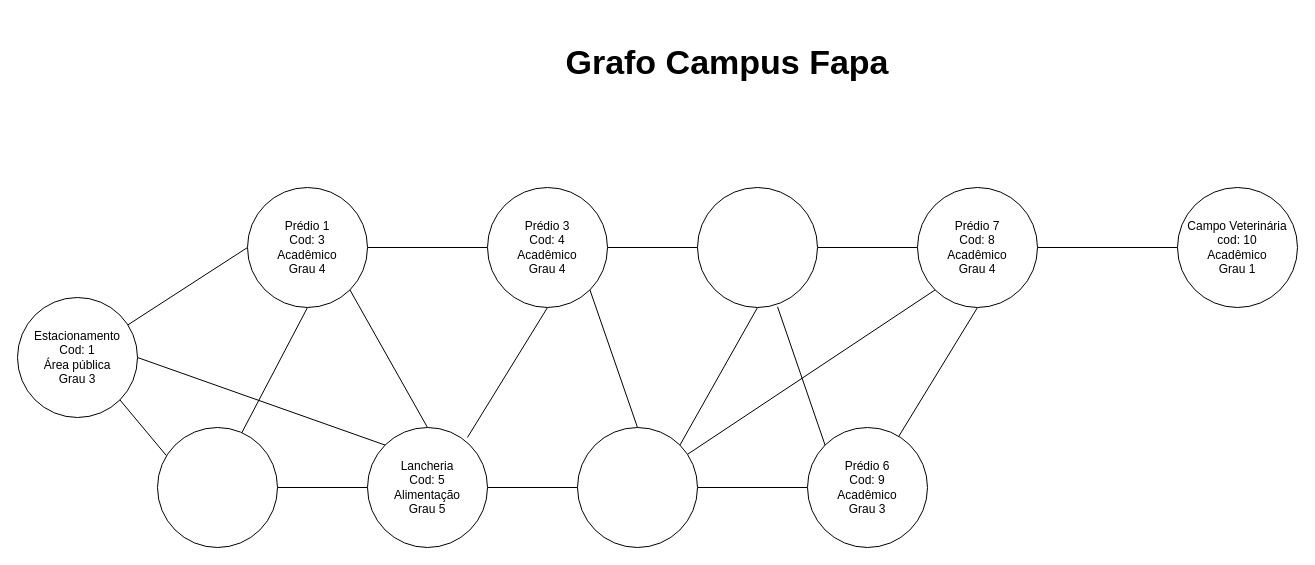
The diagram is 1315 pixels wide and 565 high, and some of its shapes have lost their labels. The shapes that lost their labels are listed below. From the top down, each one's centre as x and y in pixels, then its label:
the point at 757,247: Biblioteca Cod: 6 Acadêmico Grau 4
the point at 217,487: Prédio 2 Cod: 2 Acadêmico Grau 3
the point at 637,487: Prédio 4 Cod: 7 Acadêmico Grau 5
